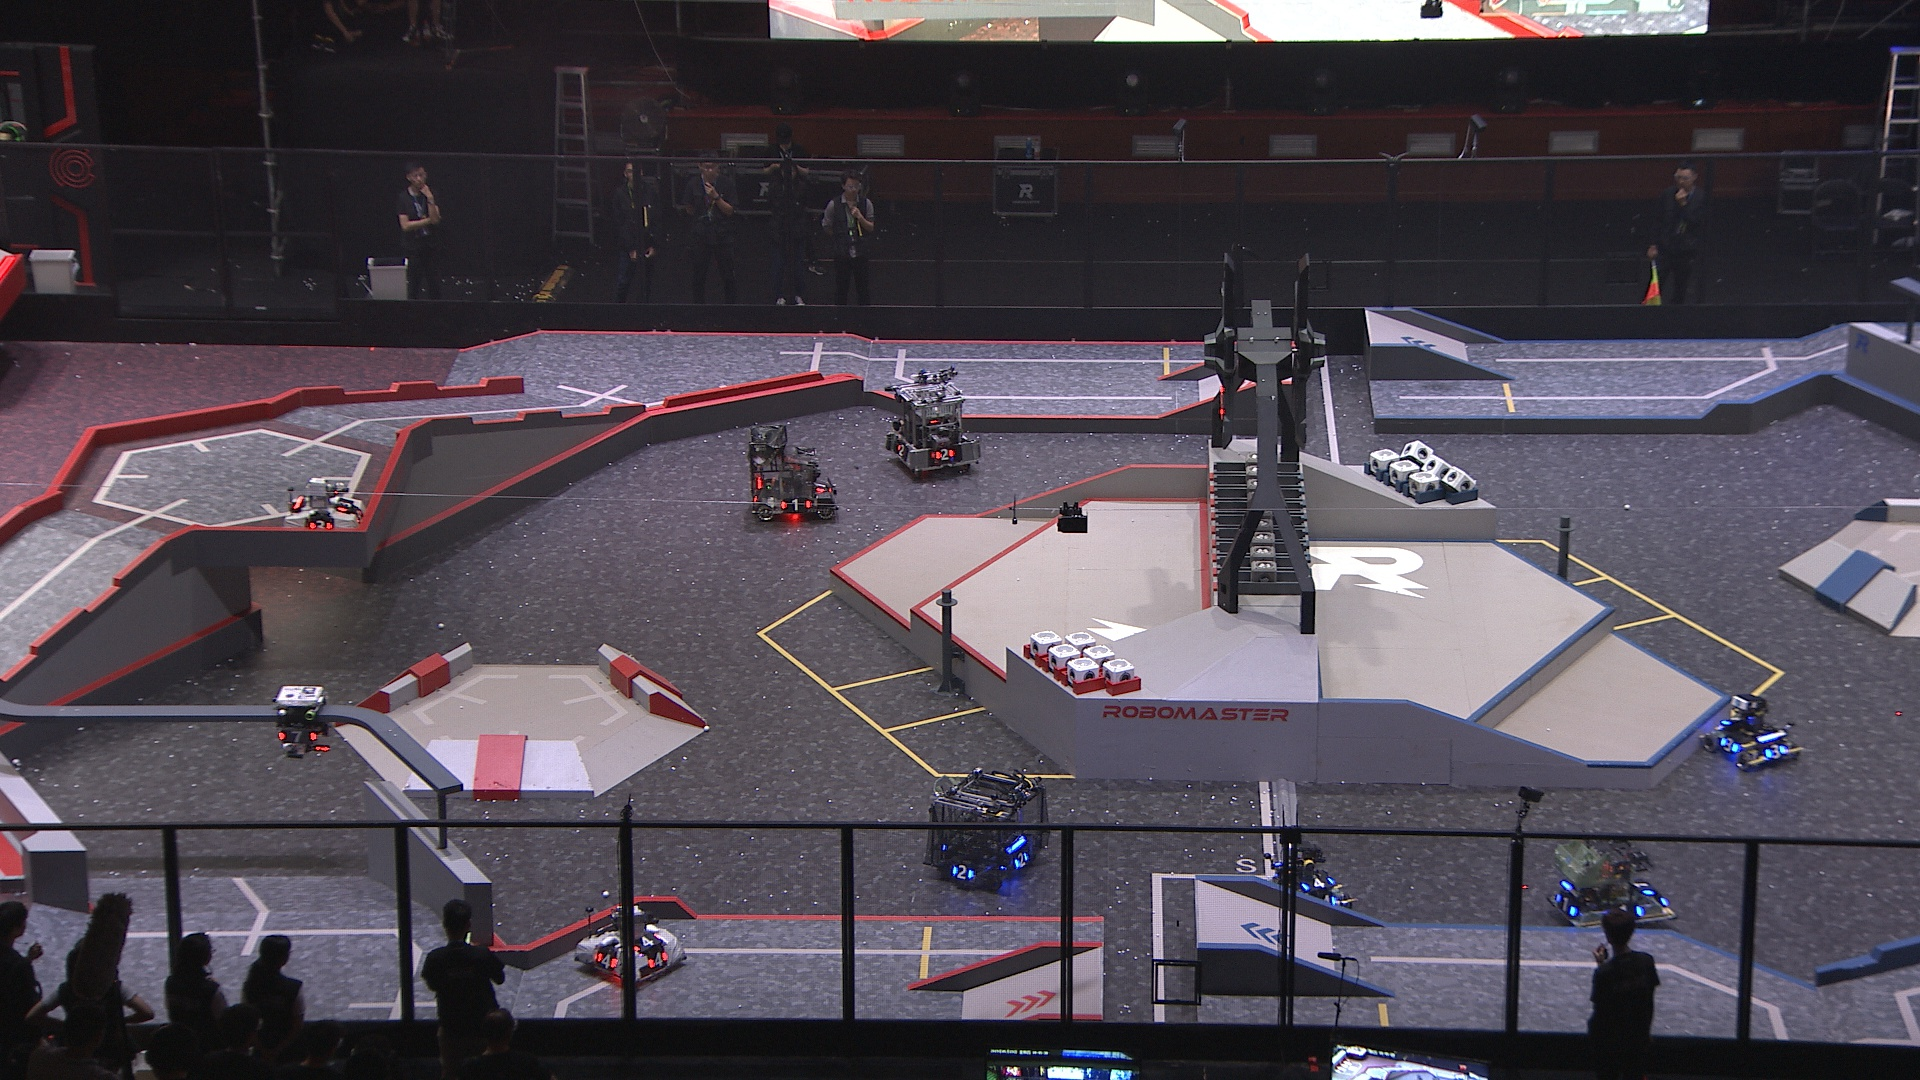armor: (276, 727, 319, 745), (1553, 893, 1578, 920), (779, 496, 814, 514), (644, 949, 671, 969), (593, 951, 618, 972), (1298, 877, 1333, 891), (951, 862, 975, 882), (632, 934, 659, 949), (1615, 903, 1644, 918), (1720, 736, 1741, 756), (1011, 851, 1033, 870), (1631, 880, 1655, 897), (1764, 742, 1785, 760), (309, 518, 335, 531), (932, 447, 956, 462), (893, 440, 910, 458), (334, 498, 353, 513), (811, 479, 827, 495)
car: (923, 769, 1048, 891), (1545, 835, 1676, 935), (571, 902, 688, 989), (745, 425, 843, 522), (887, 377, 982, 476), (1698, 698, 1804, 769), (1266, 844, 1352, 916), (278, 473, 367, 541)
watcher: (272, 680, 334, 757)
